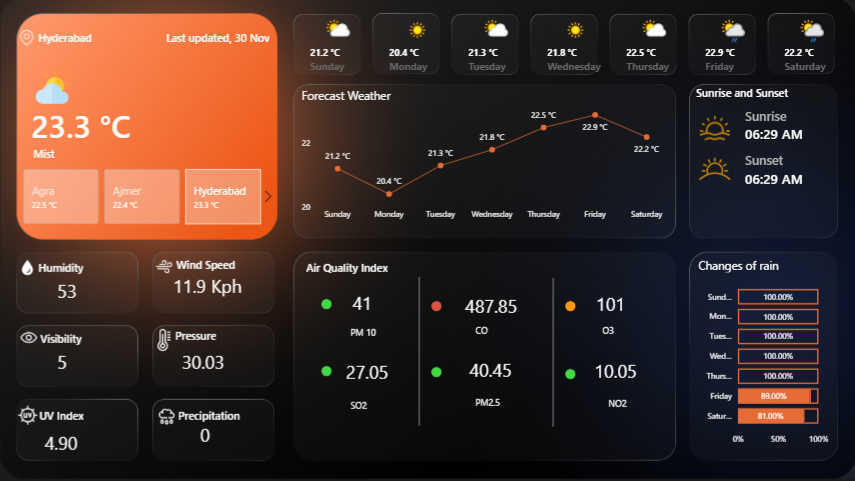

The page's visual inventory and layout, read from the dashboard file:
{"tool":"powerbi","page":{"name":"Page 1","canvas":[1280,720],"ordinal":0},"visuals":[{"type":"advancedSlicerVisual","fields":{"Values":["locations.location.name"]},"box":[11.1,249.2,406.3,92.1],"z":0},{"type":"shape","box":[47.5,146.9,207.4,83.5],"z":1000},{"type":"shape","box":[50.4,194.4,172.8,73.4],"z":2000},{"type":"shape","box":[57.6,20.2,172.8,74.9],"z":3000},{"type":"shape","box":[249.1,20.2,172.8,74.9],"z":4000},{"type":"image","box":[25.9,46.1,31.7,23],"z":5000},{"type":"image","box":[40.3,106.6,80.6,51.8],"z":6000},{"type":"image","box":[15.8,491,54.7,28.8],"z":7000},{"type":"shape","box":[61.9,491,102.2,31.7],"z":8000},{"type":"shape","box":[57.6,388.8,123.8,24.5],"z":9000},{"type":"shape","box":[267.8,584.6,172.8,74.9],"z":10000},{"type":"shape","box":[262.8,466.3,173.7,75.7],"z":11000},{"type":"shape","box":[263.5,360,178.6,74.9],"z":12000},{"type":"shape","box":[59.4,585.1,172.3,74.2],"z":13000},{"type":"image","box":[30.2,387.4,24.5,25.9],"z":14000},{"type":"image","box":[223.2,385.9,43.2,25.9],"z":15000},{"type":"image","box":[229,492.5,34.6,33.1],"z":16000},{"type":"image","box":[26.7,605.8,31.2,31.2],"z":17000},{"type":"image","box":[218.9,609.1,60.5,28.8],"z":18000},{"type":"card","fields":{"Values":["Sum(Current.current.humidity)"]},"box":[49,411.8,103.7,50.4],"z":19000},{"type":"card","fields":{"Values":["Wind_Speed.Wind_Speed"]},"box":[252.4,408.4,117.3,40.1],"z":20000},{"type":"card","fields":{"Values":["Sum(Current.current.pressure_in)"]},"box":[252.4,518.2,103.9,50.5],"z":21000},{"type":"card","fields":{"Values":["Sum(Current.current.vis_km)"]},"box":[41.6,518.2,103.9,50.5],"z":22000},{"type":"card","fields":{"Values":["Sum(Current.current.precip_in)"]},"box":[255.4,626.6,103.9,50.5],"z":23000},{"type":"card","fields":{"Values":["Sum(Current.current.uv)"]},"box":[40.1,638.5,103.9,50.5],"z":24000},{"type":"lineChart","title":"Forecast Weather","fields":{"Y":["Sum(Forecast_days.forecast.forecastday.day.avgtemp_c)"],"Category":["Forecast_days.Day_Name"]},"box":[446.8,132.1,556,208.7],"z":25000},{"type":"advancedSlicerVisual","fields":{"Values":["Forecast_days.Day_Name"]},"box":[446.5,18.8,828.8,109.1],"z":26000},{"type":"shape","box":[1039.7,109.9,146.1,59.7],"z":27000},{"type":"shape","box":[1114.2,147.8,105.5,55.8],"z":28000},{"type":"shape","box":[1114.2,212.6,104,57.3],"z":29000},{"type":"shape","box":[1114.2,173.4,129.7,55.8],"z":30000},{"type":"shape","box":[1114.2,238.2,117.6,57.3],"z":31000},{"type":"image","box":[1035.8,170.4,64.8,45.2],"z":32000},{"type":"image","box":[1031.2,223.1,73.9,61.8],"z":33000},{"type":"hundredPercentStackedBarChart","title":"Changes of rain","fields":{"Category":["Forecast_days.Day_Name"],"Y":["Sum(Forecast_days.forecast.forecastday.day.daily_chance_of_rain)","Current.Left_value_Rain"]},"box":[1039.3,385.2,204.2,290.5],"z":34000},{"type":"shape","box":[457.9,387.4,123.8,24.5],"z":35000},{"type":"card","fields":{"Values":["Sum(Current.current.air_quality.o3)"]},"box":[853.9,424.8,118.1,61.9],"z":36000},{"type":"card","fields":{"Values":["Sum(Current.current.air_quality.pm2_5)"]},"box":[673.9,531.4,118.1,46.1],"z":37000},{"type":"card","fields":{"Values":["Sum(Current.current.air_quality.so2)"]},"box":[489.6,527,119.5,60.5],"z":38000},{"type":"card","fields":{"Values":["Sum(Current.current.air_quality.co)"]},"box":[673.9,427.7,119.5,61.9],"z":39000},{"type":"card","fields":{"Values":["Sum(Current.current.air_quality.no2)"]},"box":[861.1,525.6,118.1,61.9],"z":40000},{"type":"card","fields":{"Values":["Sum(Current.current.air_quality.pm10)"]},"box":[482.4,423.4,119.5,61.9],"z":41000},{"type":"textbox","box":[519.8,483.8,77.8,27.4],"z":42000},{"type":"textbox","box":[895.7,481,83.5,30.2],"z":43000},{"type":"textbox","box":[519.8,591.8,77.8,28.8],"z":44000},{"type":"textbox","box":[705.6,481,77.8,30.2],"z":45000},{"type":"shape","box":[481,447.8,15.8,15.8],"z":46000},{"type":"textbox","box":[904.3,589,97.9,40.3],"z":47000},{"type":"textbox","box":[705.6,587.5,103.7,40.3],"z":48000},{"type":"shape","box":[481,547.2,15.8,15.8],"z":49000},{"type":"shape","box":[645.1,548.6,15.8,15.8],"z":50000},{"type":"shape","box":[845.3,450.7,15.8,15.8],"z":51000},{"type":"shape","box":[845.3,553,15.8,15.8],"z":52000},{"type":"shape","box":[645.1,450.7,15.8,15.8],"z":53000},{"type":"shape","box":[609.1,414.7,36,221.8],"z":54000},{"type":"shape","box":[809.3,416.2,36,221.8],"z":54001}]}

Visuals, with their boxes in screenshot pixels (x1, y1, x2, y2), scaled from the page's 1280x720 canvas onto the 855x481 screenshot:
advancedSlicerVisual - locations.location.name: {"left": 7, "top": 166, "right": 279, "bottom": 228}
shape: {"left": 32, "top": 98, "right": 170, "bottom": 154}
shape: {"left": 34, "top": 130, "right": 149, "bottom": 179}
shape: {"left": 38, "top": 13, "right": 154, "bottom": 64}
shape: {"left": 166, "top": 13, "right": 282, "bottom": 64}
image: {"left": 17, "top": 31, "right": 38, "bottom": 46}
image: {"left": 27, "top": 71, "right": 81, "bottom": 106}
image: {"left": 11, "top": 328, "right": 47, "bottom": 347}
shape: {"left": 41, "top": 328, "right": 110, "bottom": 349}
shape: {"left": 38, "top": 260, "right": 121, "bottom": 276}
shape: {"left": 179, "top": 391, "right": 294, "bottom": 441}
shape: {"left": 176, "top": 312, "right": 292, "bottom": 362}
shape: {"left": 176, "top": 240, "right": 295, "bottom": 291}
shape: {"left": 40, "top": 391, "right": 155, "bottom": 440}
image: {"left": 20, "top": 259, "right": 37, "bottom": 276}
image: {"left": 149, "top": 258, "right": 178, "bottom": 275}
image: {"left": 153, "top": 329, "right": 176, "bottom": 351}
image: {"left": 18, "top": 405, "right": 39, "bottom": 426}
image: {"left": 146, "top": 407, "right": 187, "bottom": 426}
card - Sum(Current.current.humidity): {"left": 33, "top": 275, "right": 102, "bottom": 309}
card - Wind_Speed.Wind_Speed: {"left": 169, "top": 273, "right": 247, "bottom": 300}
card - Sum(Current.current.pressure_in): {"left": 169, "top": 346, "right": 238, "bottom": 380}
card - Sum(Current.current.vis_km): {"left": 28, "top": 346, "right": 97, "bottom": 380}
card - Sum(Current.current.precip_in): {"left": 171, "top": 419, "right": 240, "bottom": 452}
card - Sum(Current.current.uv): {"left": 27, "top": 427, "right": 96, "bottom": 460}
"Forecast Weather" lineChart: {"left": 298, "top": 88, "right": 670, "bottom": 228}
advancedSlicerVisual - Forecast_days.Day_Name: {"left": 298, "top": 13, "right": 852, "bottom": 85}
shape: {"left": 694, "top": 73, "right": 792, "bottom": 113}
shape: {"left": 744, "top": 99, "right": 815, "bottom": 136}
shape: {"left": 744, "top": 142, "right": 814, "bottom": 180}
shape: {"left": 744, "top": 116, "right": 831, "bottom": 153}
shape: {"left": 744, "top": 159, "right": 823, "bottom": 197}
image: {"left": 692, "top": 114, "right": 735, "bottom": 144}
image: {"left": 689, "top": 149, "right": 738, "bottom": 190}
"Changes of rain" hundredPercentStackedBarChart: {"left": 694, "top": 257, "right": 831, "bottom": 451}
shape: {"left": 306, "top": 259, "right": 389, "bottom": 275}
card - Sum(Current.current.air_quality.o3): {"left": 570, "top": 284, "right": 649, "bottom": 325}
card - Sum(Current.current.air_quality.pm2_5): {"left": 450, "top": 355, "right": 529, "bottom": 386}
card - Sum(Current.current.air_quality.so2): {"left": 327, "top": 352, "right": 407, "bottom": 392}
card - Sum(Current.current.air_quality.co): {"left": 450, "top": 286, "right": 530, "bottom": 327}
card - Sum(Current.current.air_quality.no2): {"left": 575, "top": 351, "right": 654, "bottom": 392}
card - Sum(Current.current.air_quality.pm10): {"left": 322, "top": 283, "right": 402, "bottom": 324}
textbox: {"left": 347, "top": 323, "right": 399, "bottom": 342}
textbox: {"left": 598, "top": 321, "right": 654, "bottom": 342}
textbox: {"left": 347, "top": 395, "right": 399, "bottom": 415}
textbox: {"left": 471, "top": 321, "right": 523, "bottom": 342}
shape: {"left": 321, "top": 299, "right": 332, "bottom": 310}
textbox: {"left": 604, "top": 393, "right": 669, "bottom": 420}
textbox: {"left": 471, "top": 392, "right": 541, "bottom": 419}
shape: {"left": 321, "top": 366, "right": 332, "bottom": 376}
shape: {"left": 431, "top": 366, "right": 441, "bottom": 377}
shape: {"left": 565, "top": 301, "right": 575, "bottom": 312}
shape: {"left": 565, "top": 369, "right": 575, "bottom": 380}
shape: {"left": 431, "top": 301, "right": 441, "bottom": 312}
shape: {"left": 407, "top": 277, "right": 431, "bottom": 425}
shape: {"left": 541, "top": 278, "right": 565, "bottom": 426}
